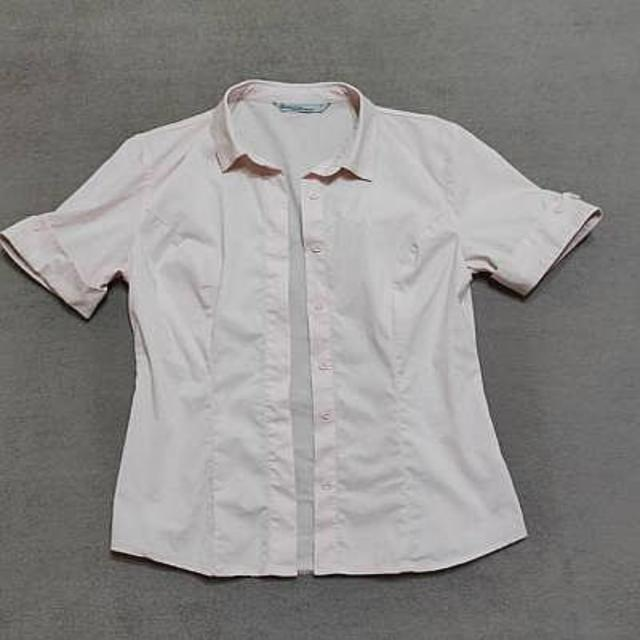SHIRT: (0, 50, 619, 586)
